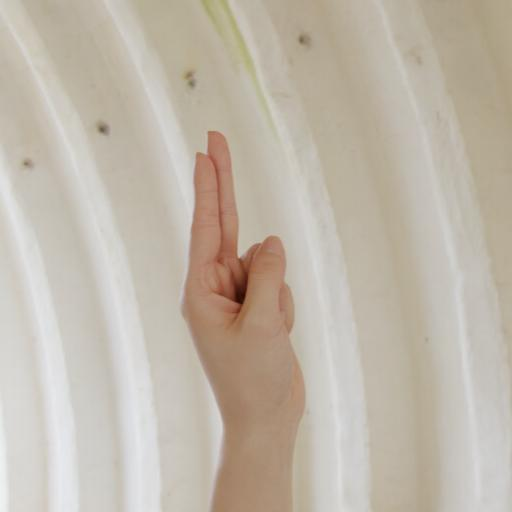U: (178, 116, 322, 437)
